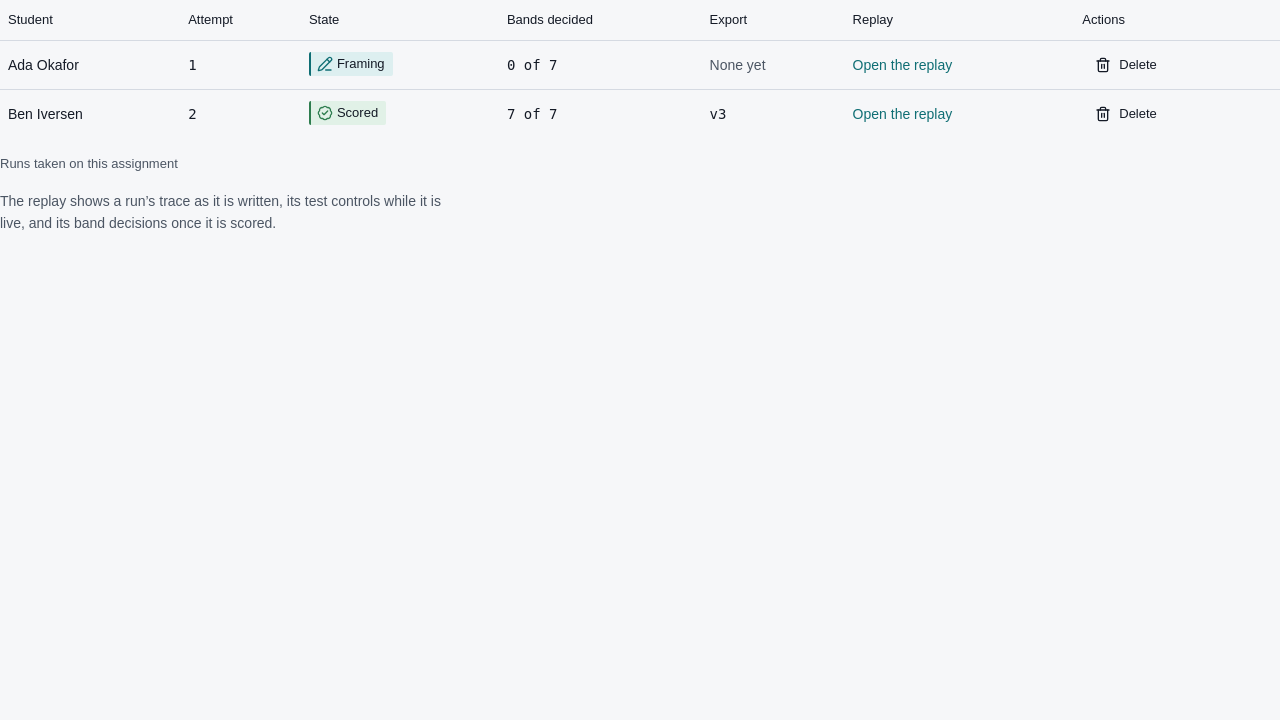
it: AssignmentRunsTable (UI-032) › removes nothing when the confirmation is dismissed
Click the button "Delete" in the row of "Ada Okafor".
click(1126, 64)  # box [1082, 48, 1170, 80]
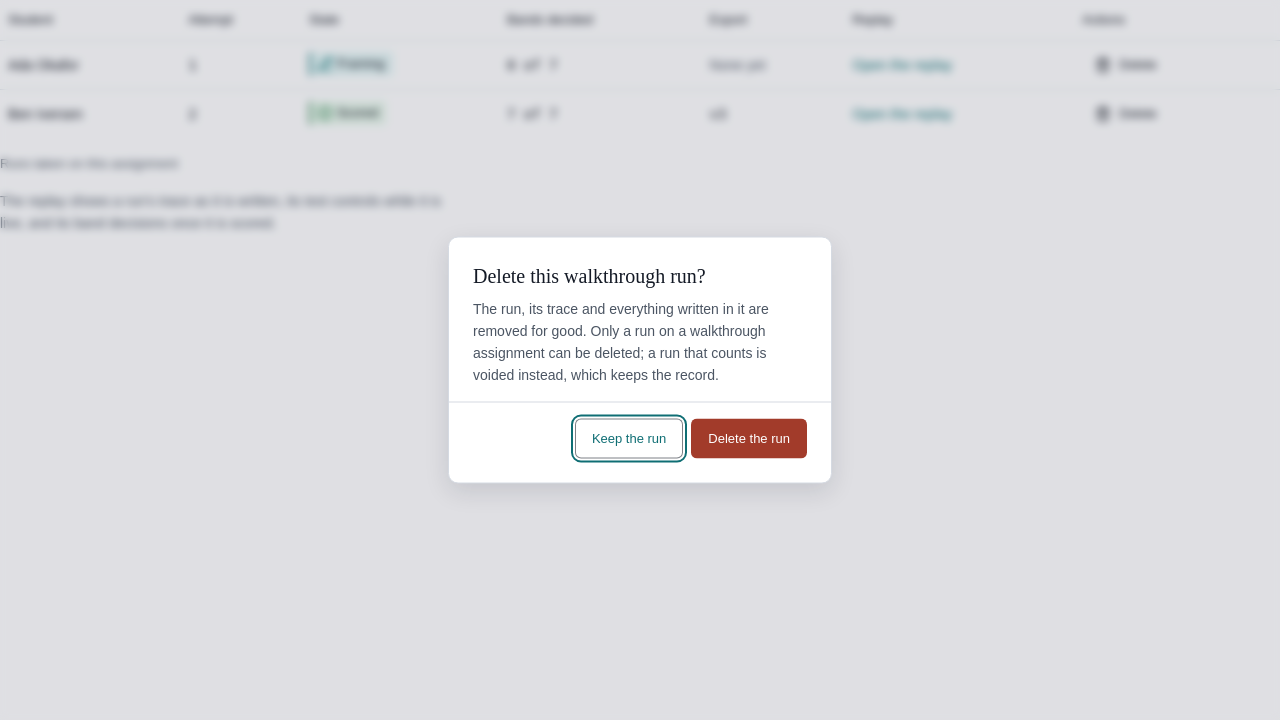
Click the button "Keep the run".
click(629, 438)  # box [575, 418, 683, 458]
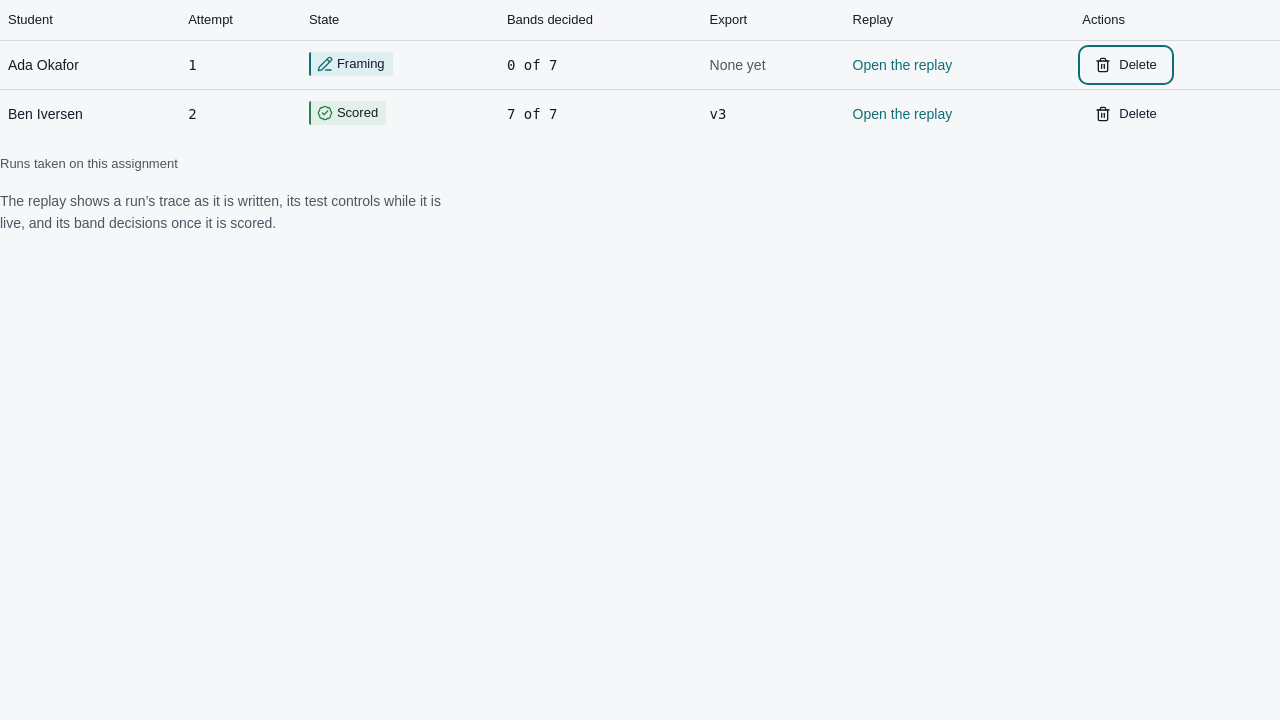
Expected: the dialog is gone
